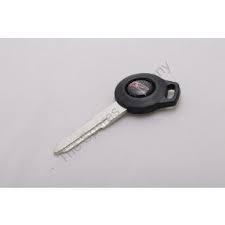key: (53, 70, 179, 157)
